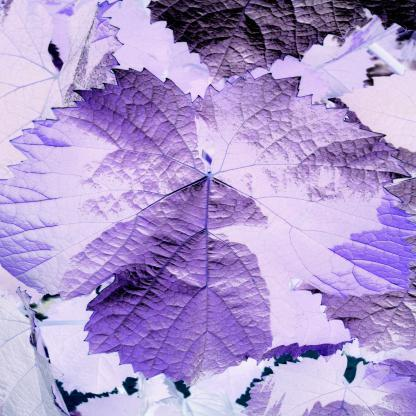grape leaf black rot: (0, 70, 409, 386)
